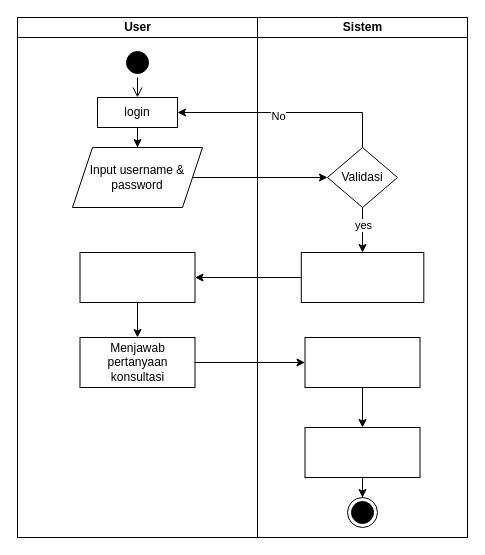
Image size: 485x555. Some labels were removed from this diagram. The shapes that lost their labels are listed below. From the top down, each one's centre as x and y in pixels, then its label:
[137,277]: Membuka menu konsultasi
[362,277]: Menampilkan Dashboard dan Menu User
[362,362]: Memproses Jawaban
[362,452]: Memberikan Rekomendasi
